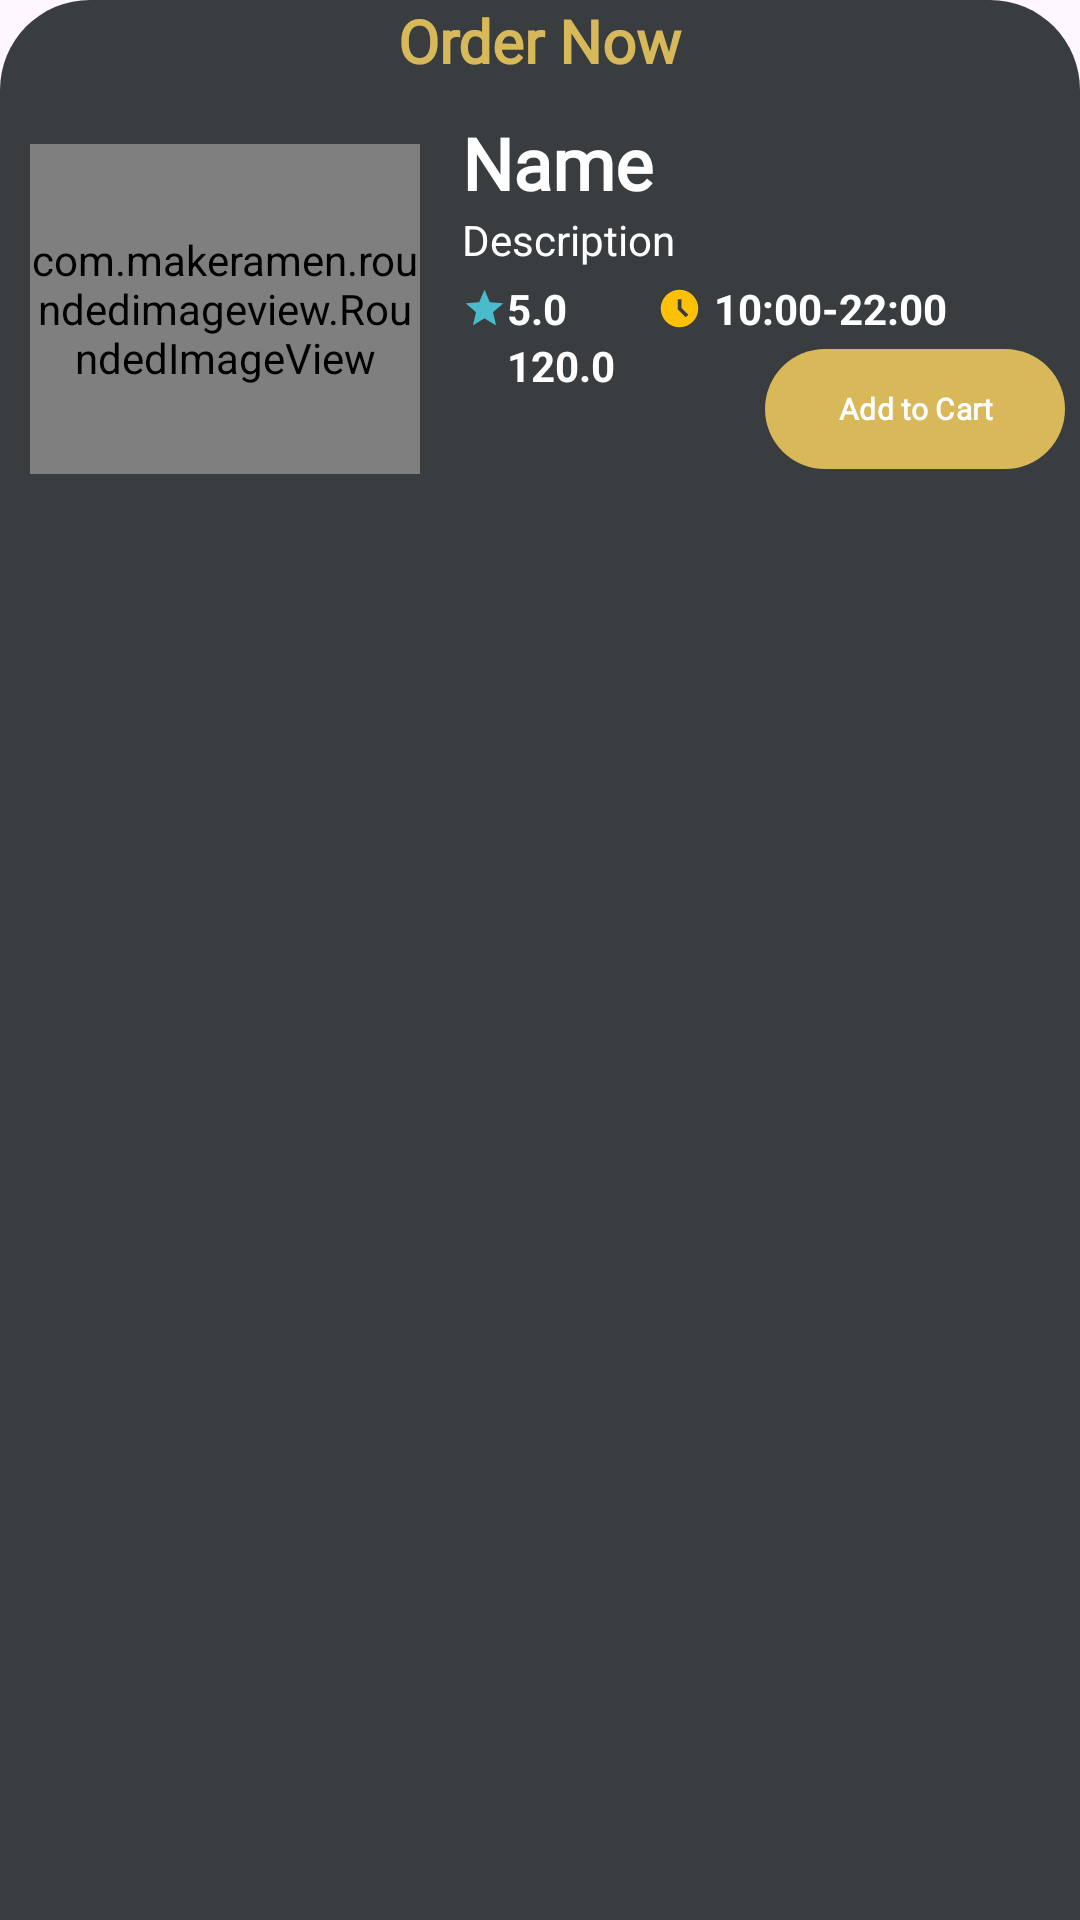

Where icons sit on this 1080 x 1920 app screen, as BBox(x1, y1, x2, y2):
access time: BBox(660, 289, 699, 328)
star: BBox(466, 290, 503, 325)
